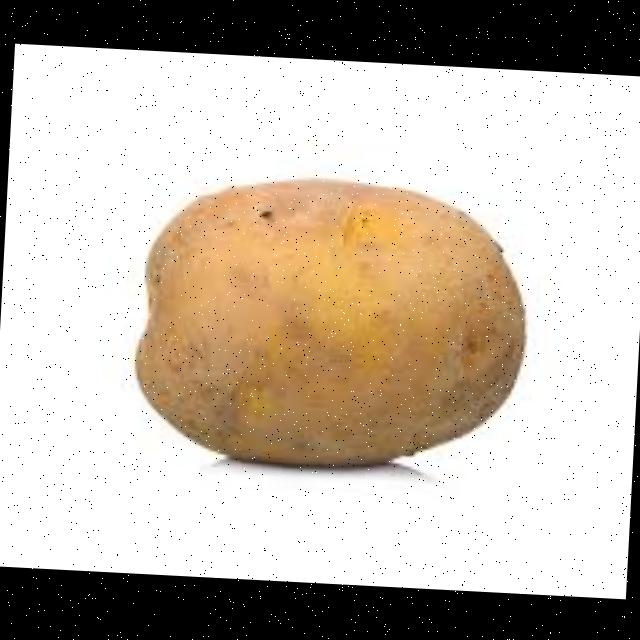Potato: (131, 166, 534, 477)
